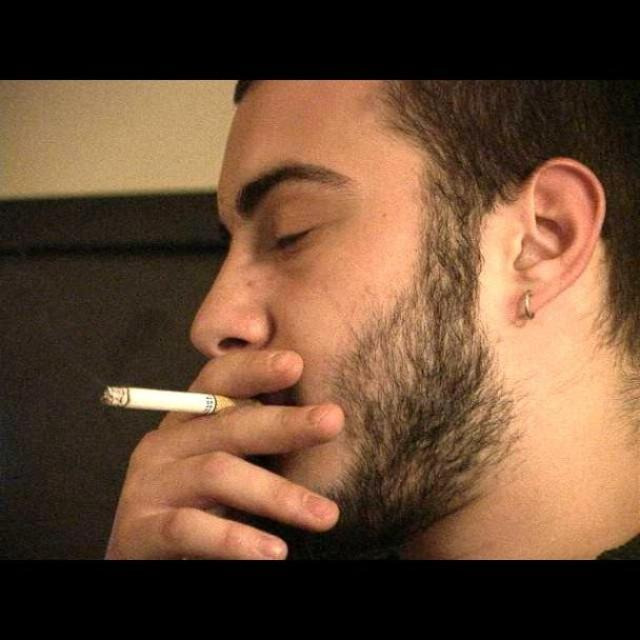rokok: (98, 380, 270, 430)
